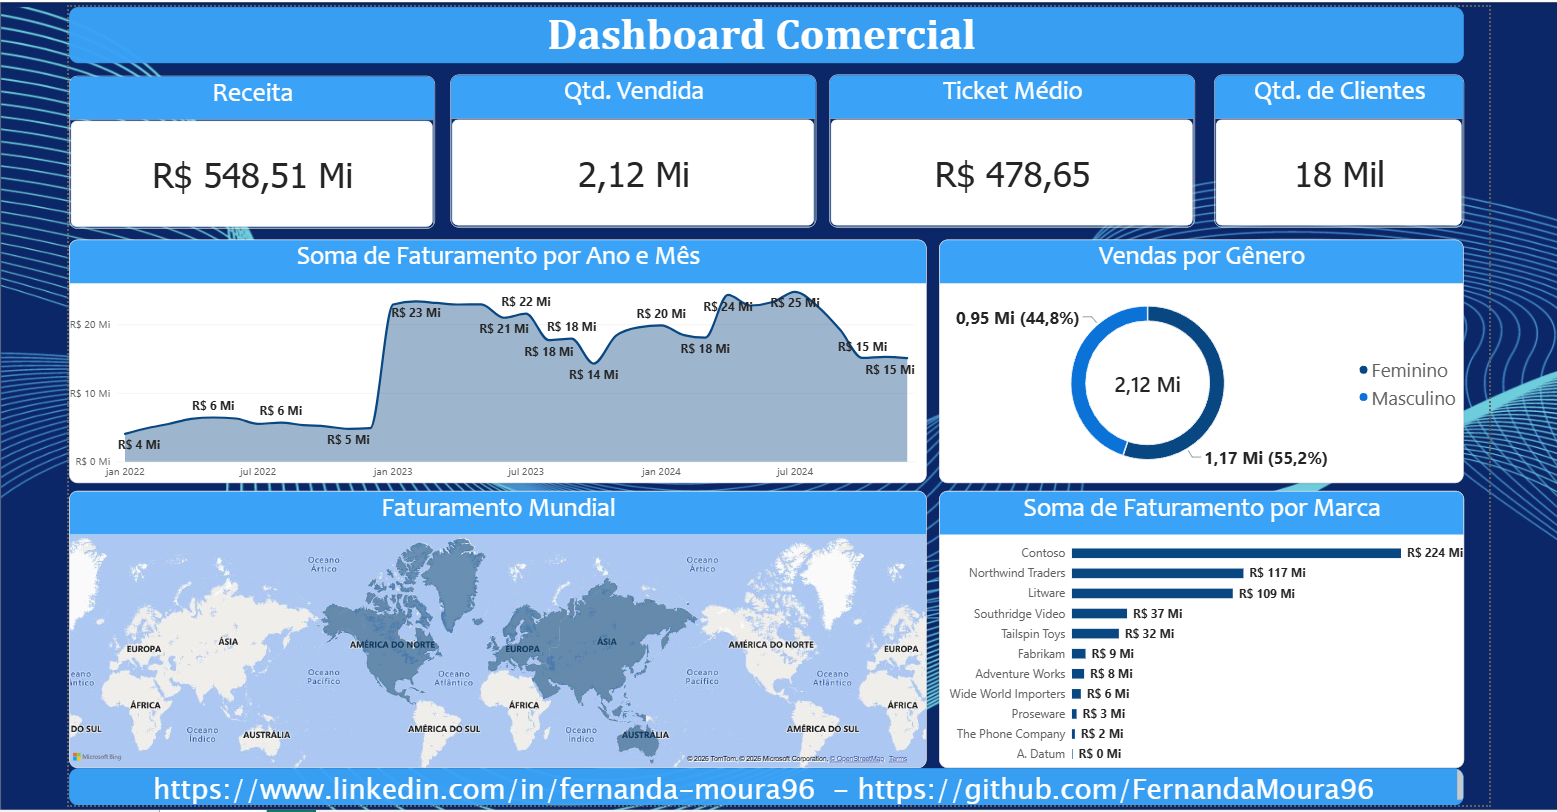

Layout of this report page (visuals, bound fields, positions):
{"tool":"powerbi","page":{"name":"Página 1","canvas":[1920,1080],"ordinal":0},"visuals":[{"type":"cardVisual","title":"Qtd. Vendida ","fields":{"Data":["Sum(Base Vendas.Qtd. Vendida)"]},"box":[516.3,90.7,495.4,207.6],"z":0},{"type":"cardVisual","title":"Receita","fields":{"Data":["Sum(Base Vendas.Faturamento )"]},"box":[0,93,495.4,207.6],"z":1000},{"type":"cardVisual","title":"Ticket Médio","fields":{"Data":["Base Vendas.ticket médio","Base Vendas.ticket médio"]},"box":[1027.3,90.7,495.4,207.6],"z":2000},{"type":"textbox","box":[0,0,1886.8,76.1],"z":3000},{"type":"cardVisual","title":"Qtd.  de Clientes","fields":{"Data":["Base Vendas.qtd. Cliente"]},"box":[1548.8,90.7,338.4,207.6],"z":4000},{"type":"areaChart","fields":{"Category":["Base Vendas.Data Venda.Variation.Hierarquia de datas.Ano","Base Vendas.Data Venda.Variation.Hierarquia de datas.Mês"],"Y":["Sum(Base Vendas.Faturamento )"]},"box":[0,314,1159.9,329.7],"z":5000},{"type":"donutChart","title":"Vendas por Gênero","fields":{"Category":["Clientes.Genero"],"Y":["Base Vendas.total_vendas"]},"box":[1177.3,314,709.9,329.7],"z":6000},{"type":"filledMap","title":"Faturamento Mundial","fields":{"Category":["Loja.Continente"]},"box":[0,654.3,1159.8,375.3],"z":7000},{"type":"barChart","fields":{"Category":["Produto.Marca"],"Y":["Sum(Base Vendas.Faturamento )"]},"box":[1176.7,654.3,710.1,375.3],"z":8000},{"type":"textbox","box":[0,1029.6,1886.8,50.7],"z":9000}]}

Visuals, with their boxes in screenshot pixels (x1, y1, x2, y2):
"Qtd. Vendida " cardVisual: <bbox>443, 67, 810, 221</bbox>
"Receita" cardVisual: <bbox>61, 69, 428, 223</bbox>
"Ticket Médio" cardVisual: <bbox>822, 67, 1188, 221</bbox>
textbox: <bbox>61, 0, 1458, 56</bbox>
"Qtd.  de Clientes" cardVisual: <bbox>1208, 67, 1458, 221</bbox>
areaChart - Base Vendas.Data Venda.Variation.Hierarquia de datas.Ano x Base Vendas.Data Venda.Variation.Hierarquia de datas.Mês: <bbox>61, 233, 920, 477</bbox>
"Vendas por Gênero" donutChart: <bbox>933, 233, 1458, 477</bbox>
"Faturamento Mundial" filledMap: <bbox>61, 485, 920, 762</bbox>
barChart - Produto.Marca x Sum(Base Vendas.Faturamento ): <bbox>932, 485, 1458, 762</bbox>
textbox: <bbox>61, 762, 1458, 800</bbox>
